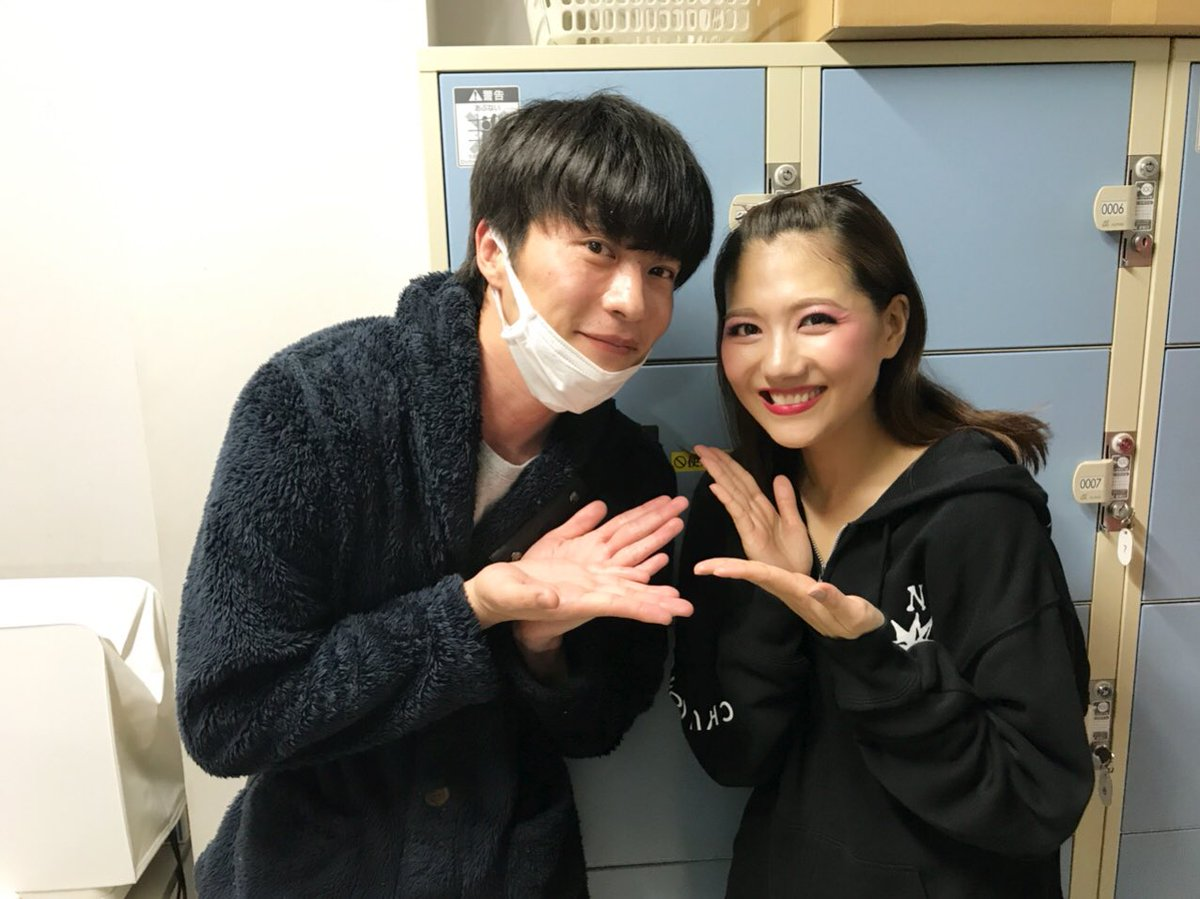face: (719, 231, 908, 445), (474, 185, 681, 377)
hand: (463, 483, 691, 637), (693, 440, 820, 576), (691, 552, 884, 641)
